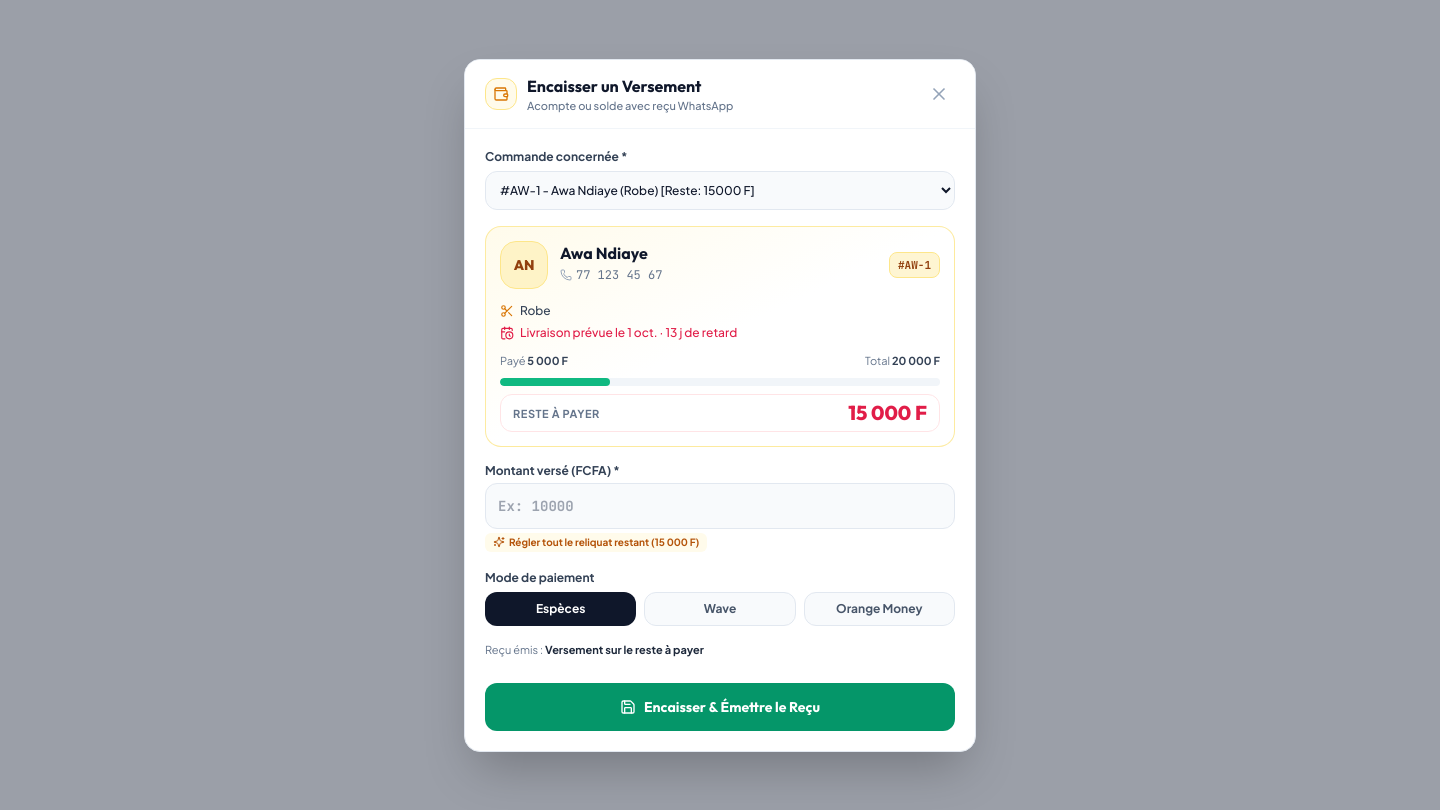
Test: cas limites de l’API › whatsAppLink null : l’écran de reçu s’affiche avec un lien WhatsApp local
Type "5000" into the number field labelled "Montant versé (FCFA) *".
click(720, 506); type("5000")  # box 485,482 -> 955,528
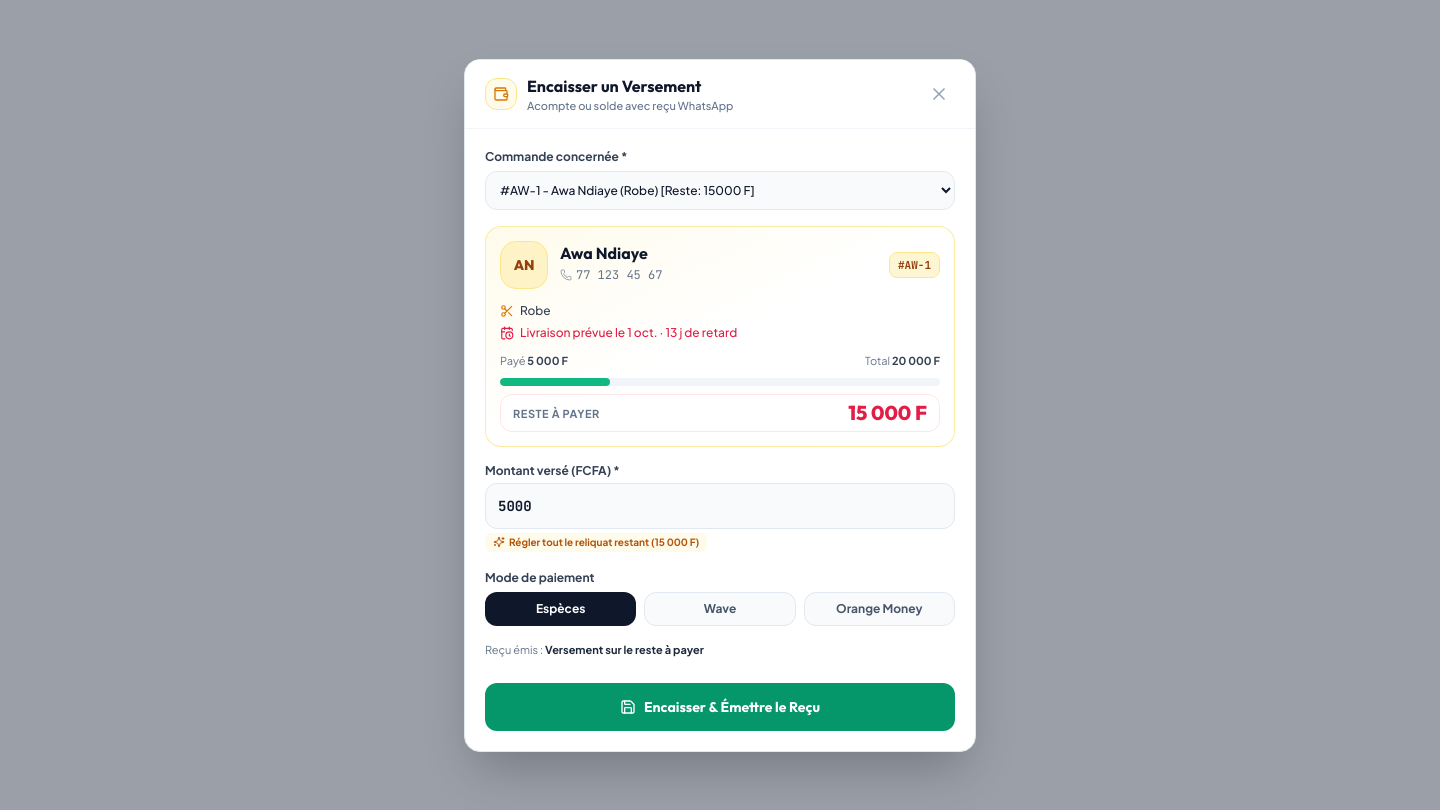
Click the button "Encaisser & Émettre le Reçu".
click(720, 706)  # box 485,682 -> 955,730
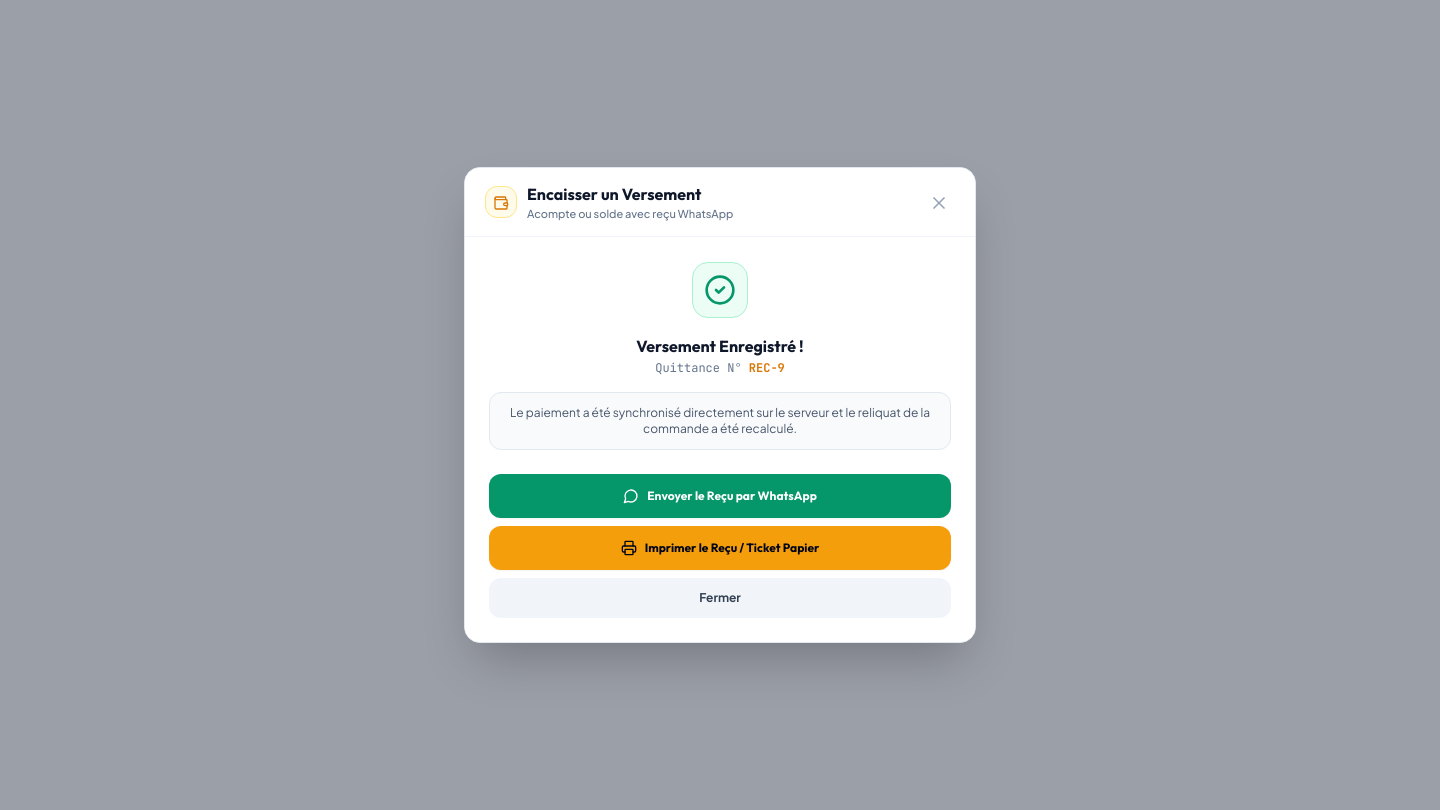
Expected: the text "REC-9" is shown, 749,360 -> 785,376
